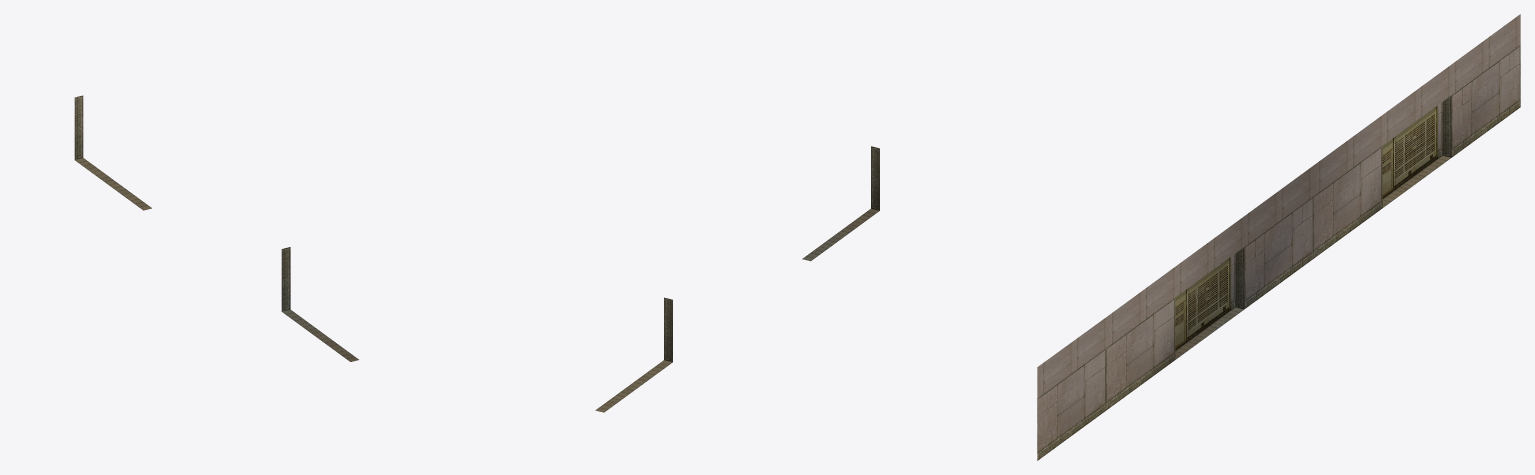
Rendered from M2Zone4_Building07D.glb.
The picture shows the model from 3 angles, left to right: view 1: azimuth 30°, elevation 25°; view 2: azimuth 150°, elevation 25°; view 3: azimuth 330°, elevation 25°; orthographic projection.
Visible parts, largest first — view 1: M2ZONE4_BUILDING07D; view 2: M2ZONE4_BUILDING07D; view 3: M2ZONE4_BUILDING07D.
Part boxes in pixels (x1,y1,x2,y2): M2ZONE4_BUILDING07D: [74, 95, 358, 361]; M2ZONE4_BUILDING07D: [595, 146, 879, 412]; M2ZONE4_BUILDING07D: [1037, 14, 1520, 460].
Size of the model in its own units: 0.6 by 6 by 56.
4 materials, 4 textured.
